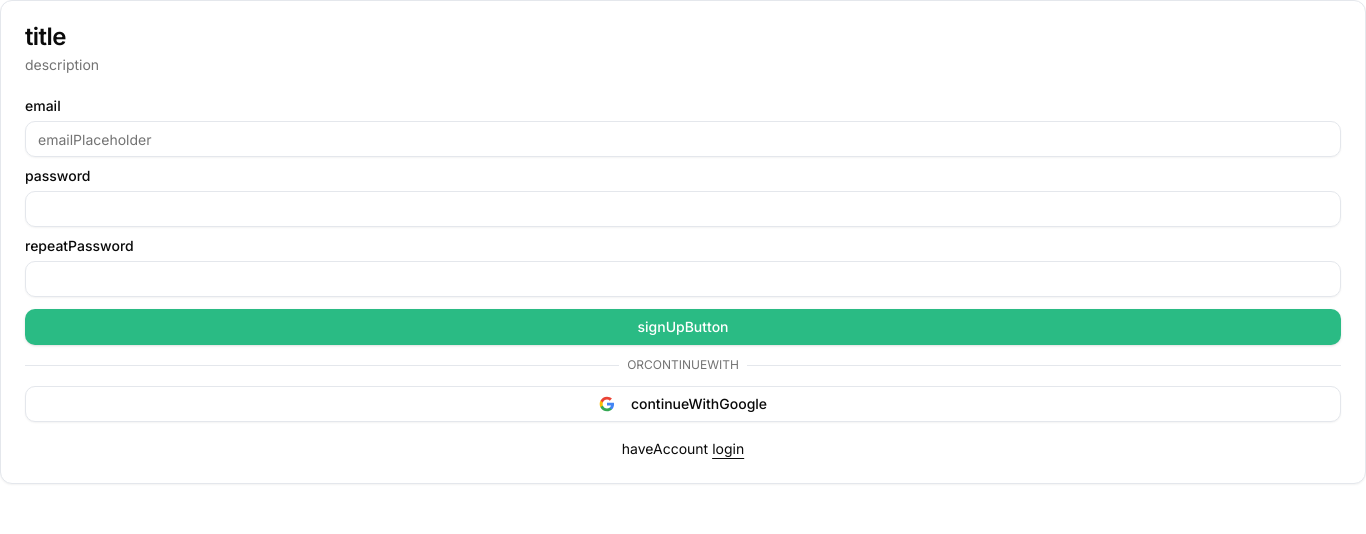
Test: SignUpForm › shows error on Google sign-up failure
Click the button "continueWithGoogle". click: (683, 404)
box: [25,386,1341,422]
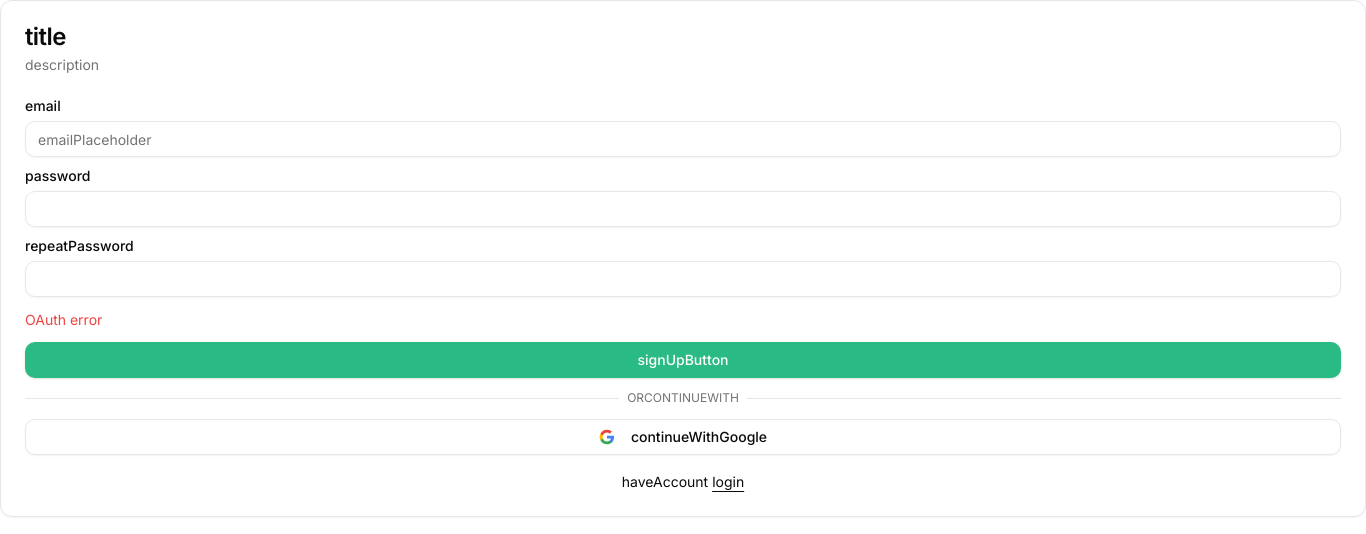
Check: the text "OAuth error" is shown, box [25,311,102,328]
